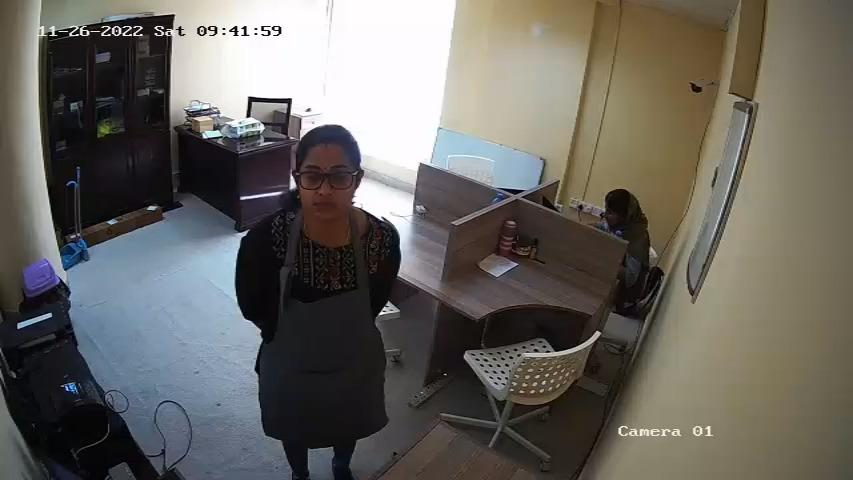apron: (262, 215, 378, 430)
